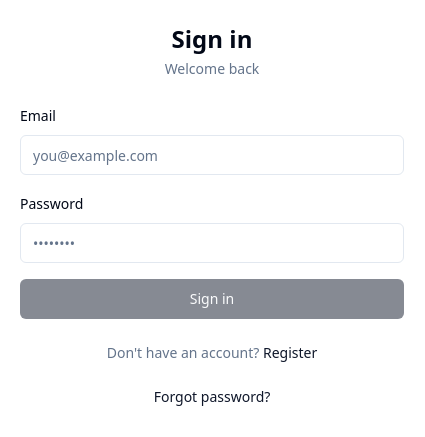
Scenario: LoginPage › UI-AUTH-LOGIN-S3: shows inline error on blur with invalid email, submit button stays disabled (FR-UI-AUTH-1)
Expected: the button "Sign in" is disabled, left=20, top=279, right=404, bottom=319
Note: Type an invalid email and blur to trigger validation
Type "not-an-email" into the field named "email" at (212, 155), box left=20, top=135, right=404, bottom=175
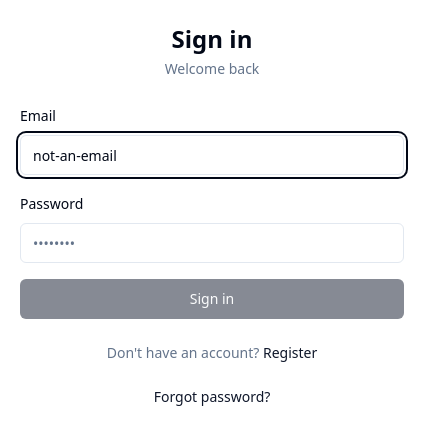
Press Tab
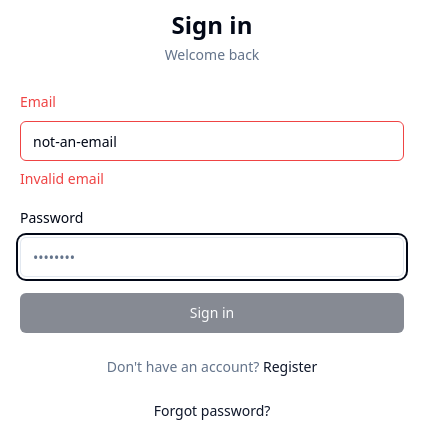
Expected: the button "Sign in" is disabled, left=20, top=293, right=404, bottom=333
Expected: the text "Invalid email" is shown, left=20, top=169, right=104, bottom=188
